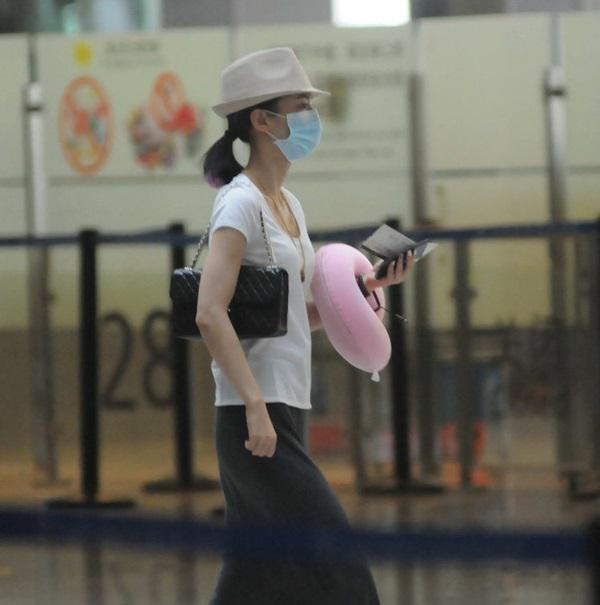OK: (265, 97, 326, 166)
